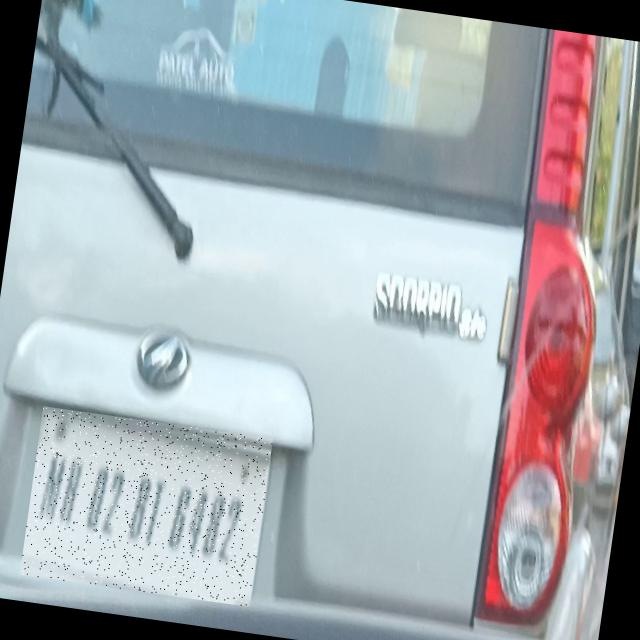Plate: (22, 407, 275, 608)
